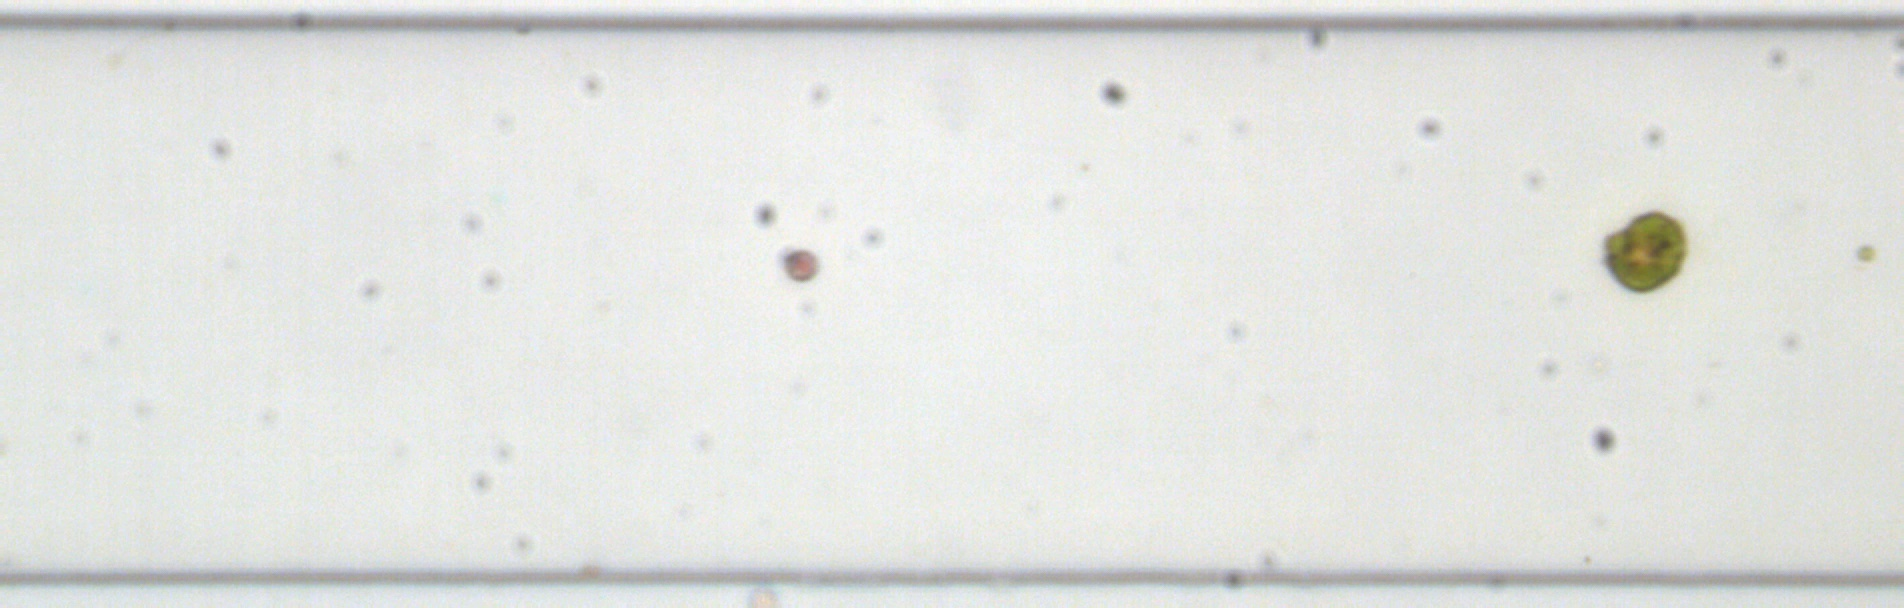Chlorella: (1852, 242, 1876, 265)
Haematococcus: (1594, 204, 1689, 301)
Porphyridium: (781, 245, 820, 282)
